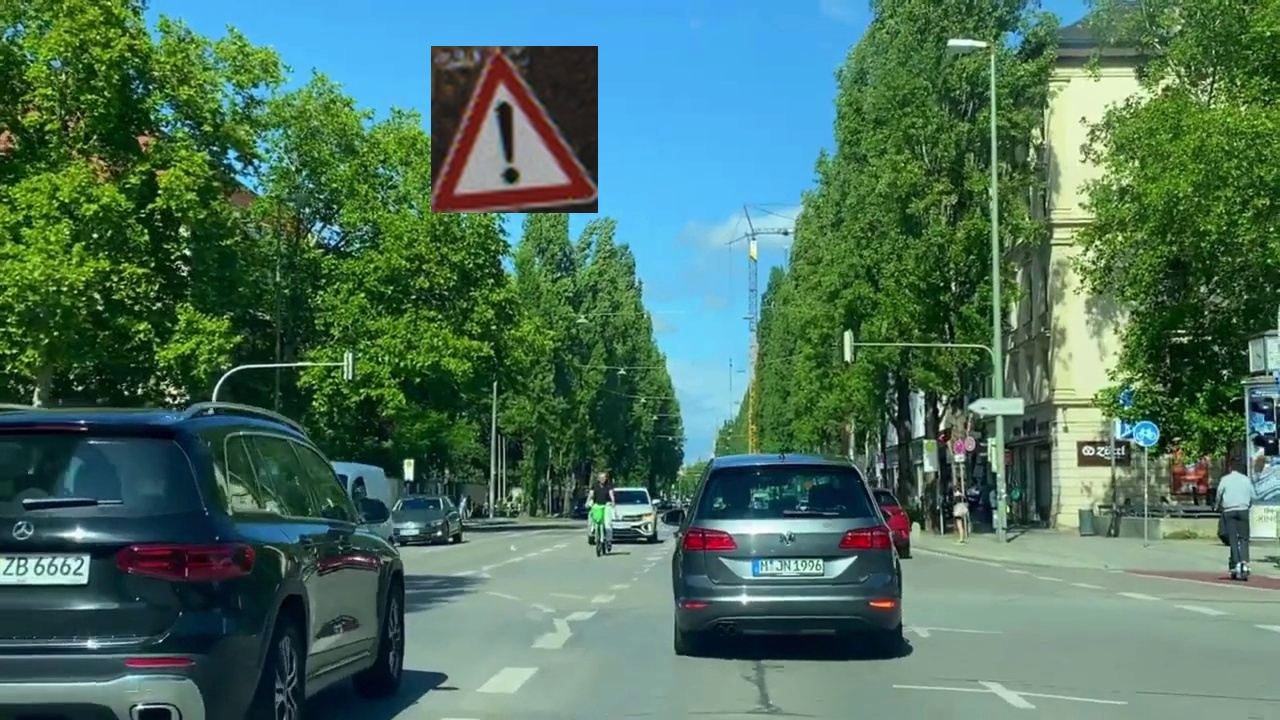Caution: (431, 46, 598, 213)
